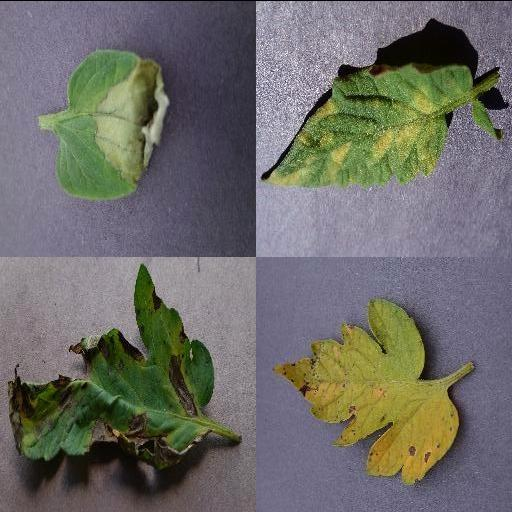Early Blight: (9, 260, 215, 464)
Late Blight: (59, 47, 171, 201)
Leaf Mold: (262, 58, 476, 187)
Septoria: (272, 294, 460, 484)
